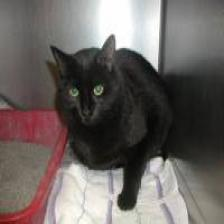cat: (48, 28, 126, 134)
